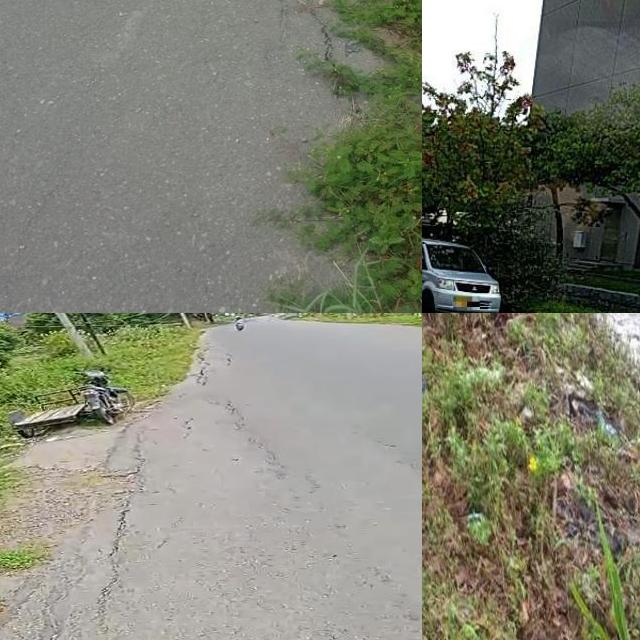Pinggir: (0, 452, 174, 640), (249, 0, 422, 136)
